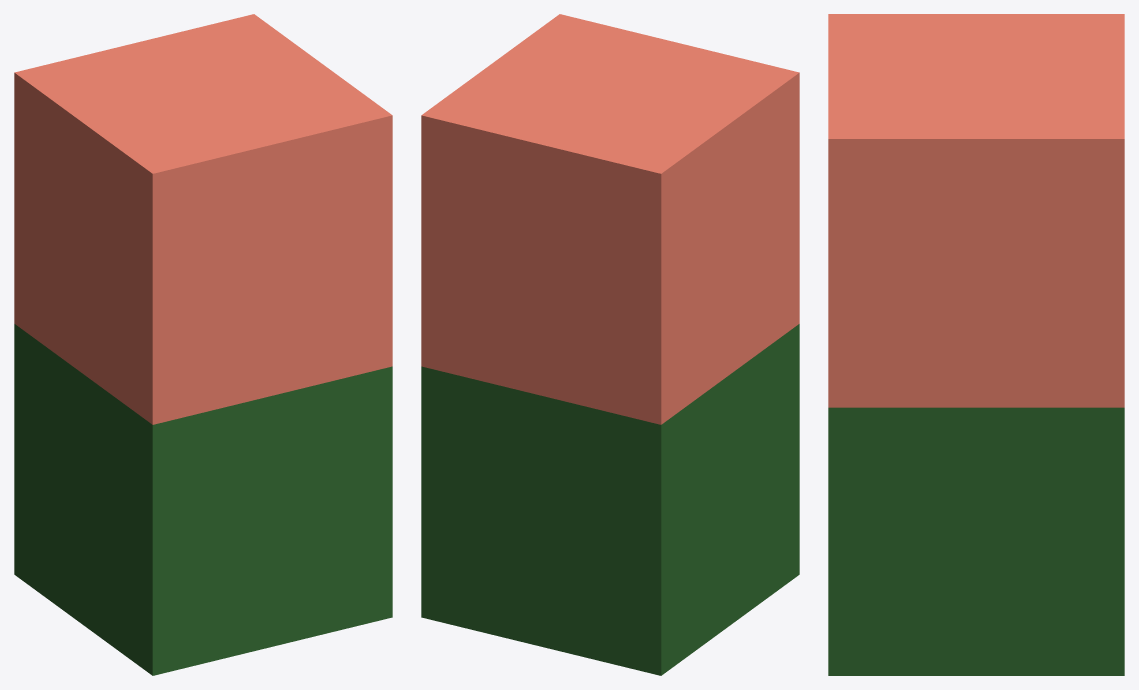
The model's file is GnomeWarrior.obj.
3 views of the same model, side by side, from view 1: azimuth 30°, elevation 25°; view 2: azimuth 150°, elevation 25°; view 3: azimuth 270°, elevation 25° (orthographic). The views are drawn at different scales.
Parts seen in each view (by area): view 1: GnomeWarrior; view 2: GnomeWarrior; view 3: GnomeWarrior.
Boxes of the visible parts, x1=… form: GnomeWarrior: x1=14, y1=14, x2=392, y2=675; GnomeWarrior: x1=421, y1=14, x2=799, y2=675; GnomeWarrior: x1=828, y1=14, x2=1124, y2=675.
Size of the model in its own units: 0.1 by 0.2 by 0.1.
1 material, 1 textured.
